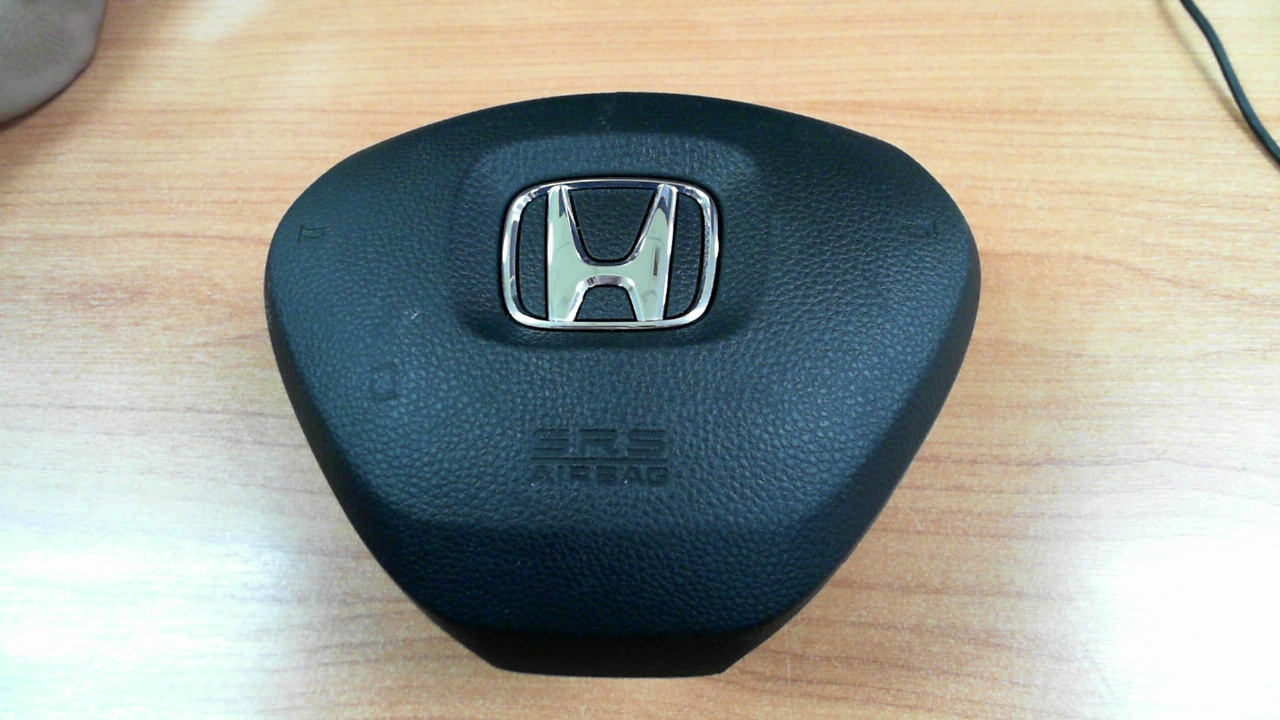Airbag: (264, 91, 980, 678)
